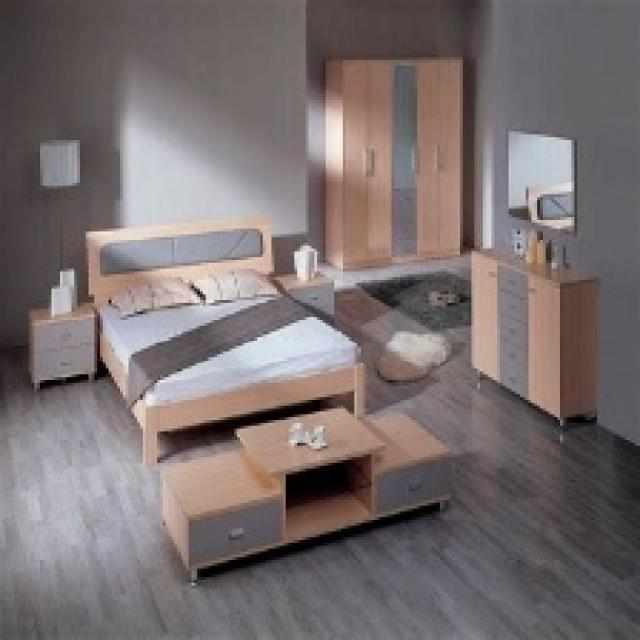Bed: (83, 214, 366, 466)
